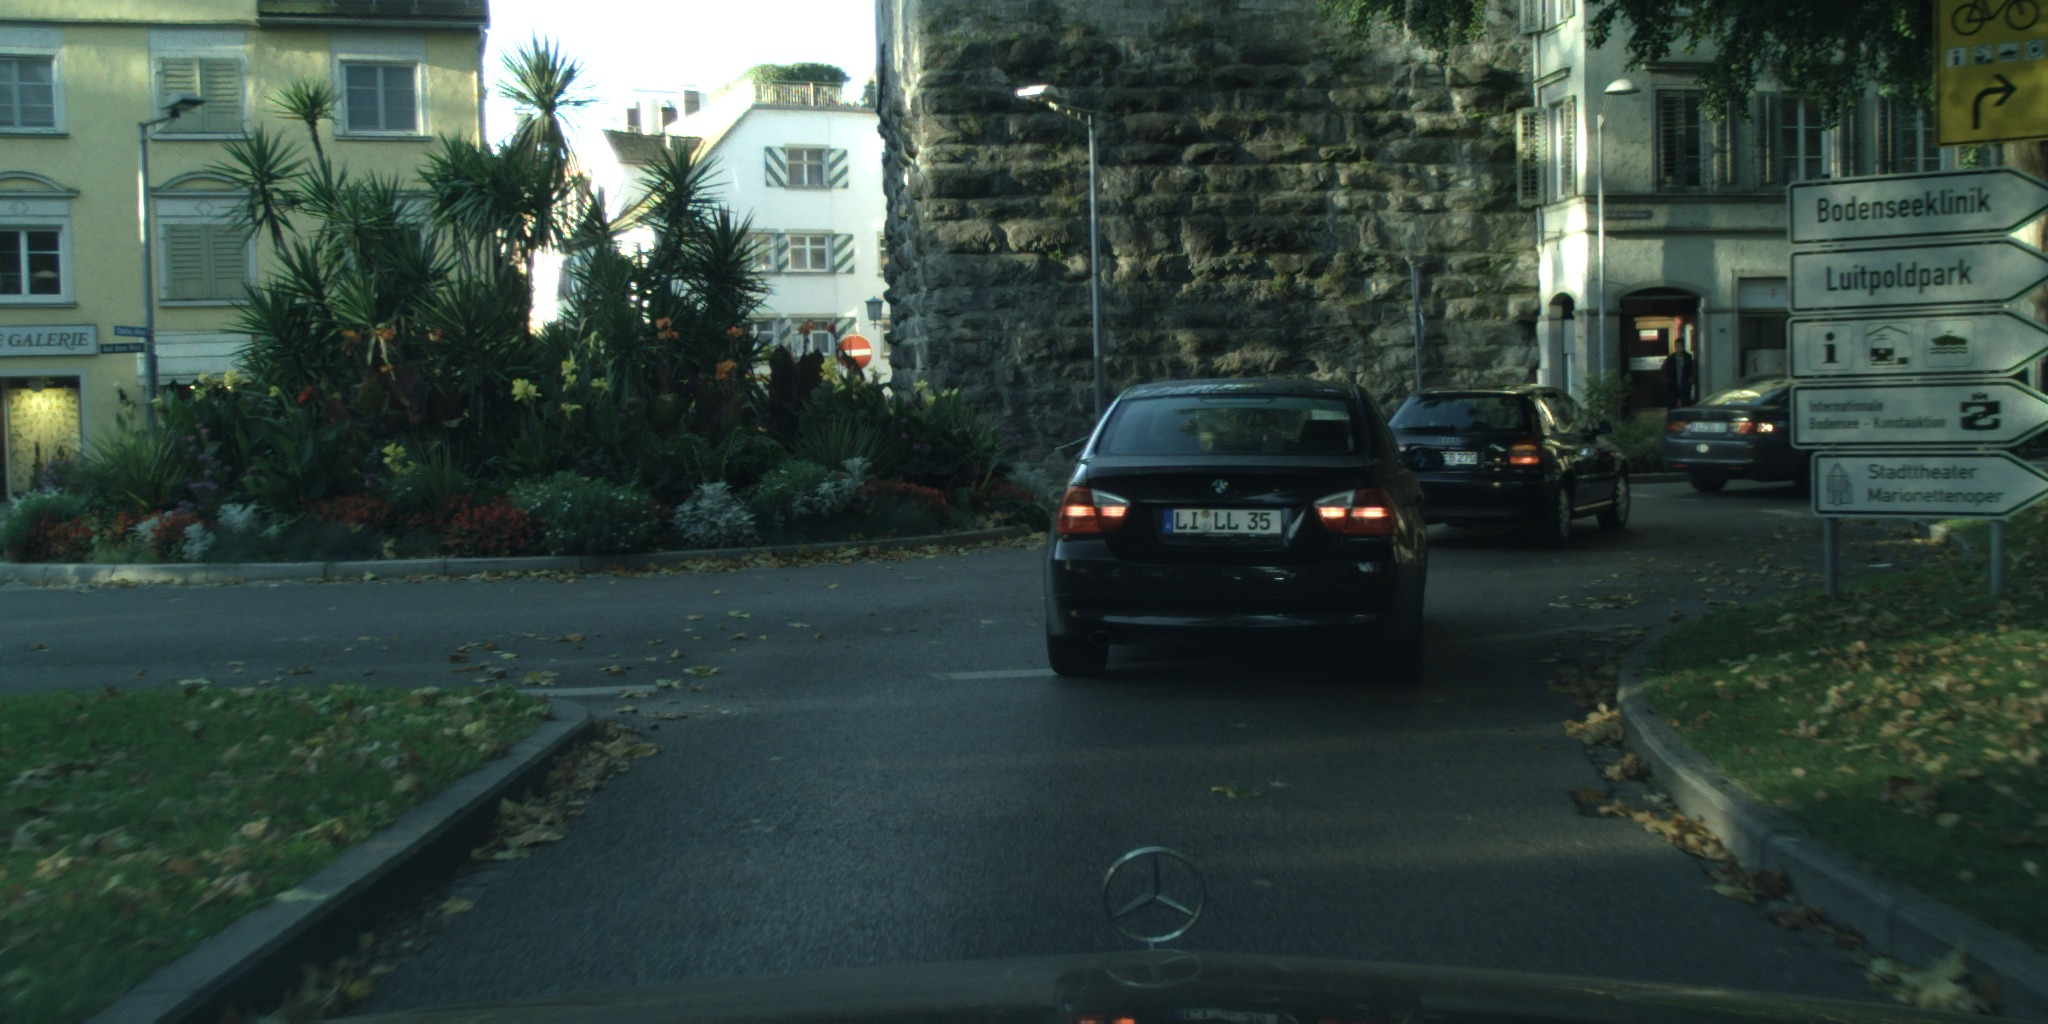car: (1045, 379, 1446, 683), (1384, 383, 1631, 548), (1661, 371, 1849, 500)
person: (1657, 338, 1695, 416)
